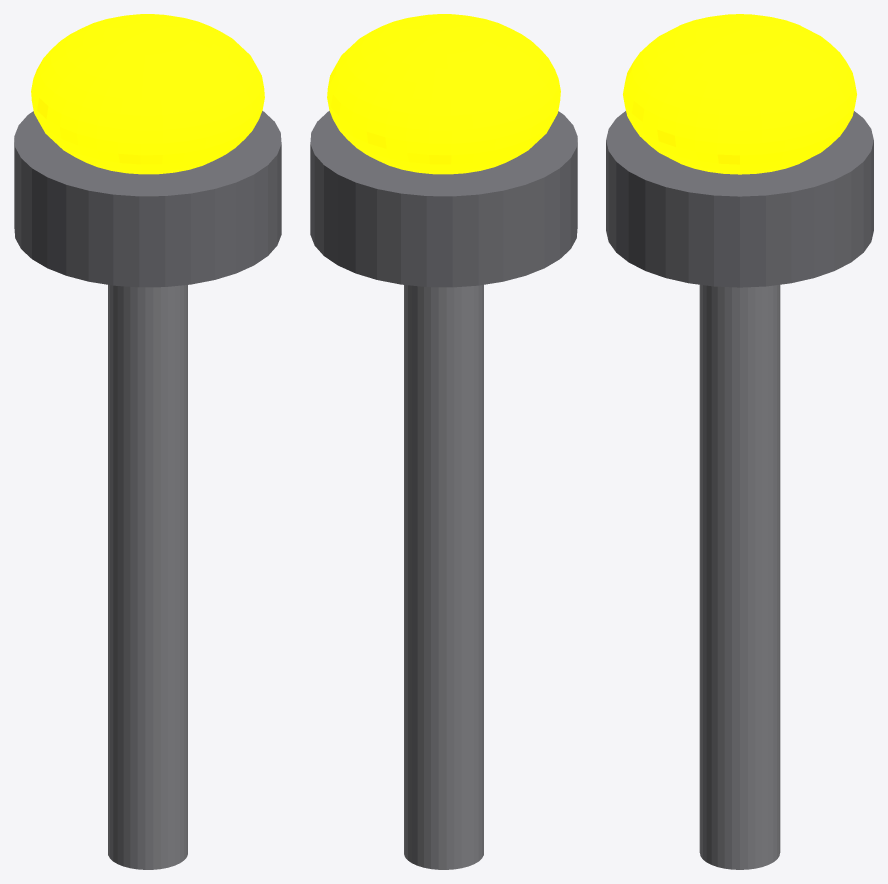
Rendered from warning_beacon.glb.
The picture shows the model from 3 angles, left to right: view 1: azimuth 30°, elevation 25°; view 2: azimuth 150°, elevation 25°; view 3: azimuth 270°, elevation 25°; orthographic projection.
Parts seen in each view (by area): view 1: Cylinder, Cylinder.001, Sphere; view 2: Cylinder, Cylinder.001, Sphere; view 3: Cylinder, Cylinder.001, Sphere.
Part boxes in pixels (<box>): Cylinder: <box>108,285,187,869</box>; Cylinder.001: <box>14,111,281,287</box>; Sphere: <box>31,14,264,174</box>; Cylinder: <box>404,285,483,869</box>; Cylinder.001: <box>310,111,577,287</box>; Sphere: <box>327,14,560,174</box>; Cylinder: <box>699,284,780,869</box>; Cylinder.001: <box>606,111,873,287</box>; Sphere: <box>623,14,856,174</box>.
Bounding box in the file's own units: 0.8 × 2.71 × 0.8.
